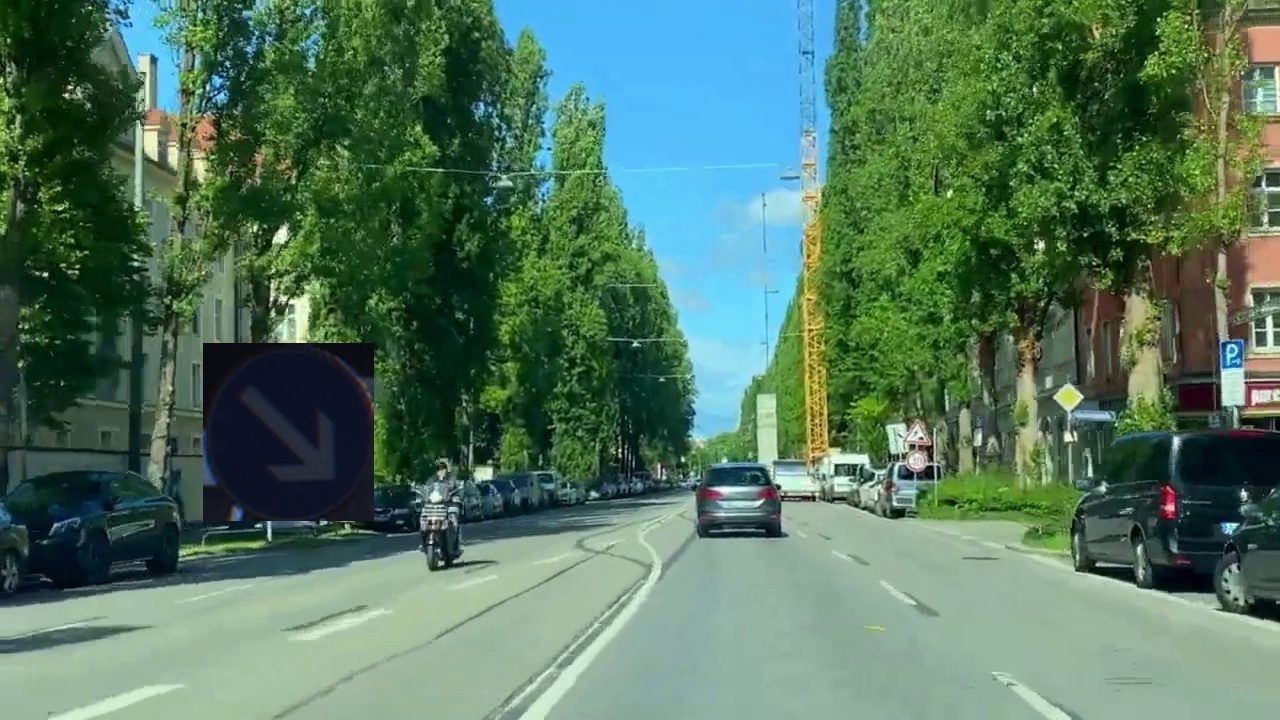Keep right: (203, 343, 374, 521)
